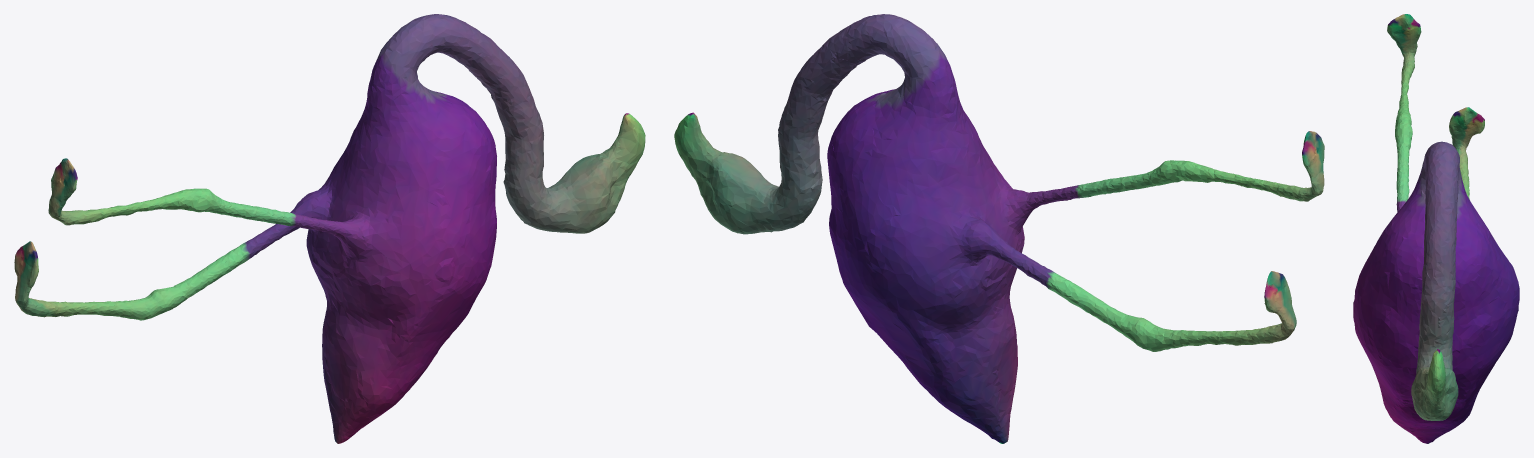
The model's file is flamingo-2.off.obj.
3 views of the same model, side by side, from view 1: azimuth 30°, elevation 25°; view 2: azimuth 150°, elevation 25°; view 3: azimuth 270°, elevation 25° (orthographic). The views are drawn at different scales.
Size of the model in its own units: 1.5 by 0.9263 by 0.4124.
